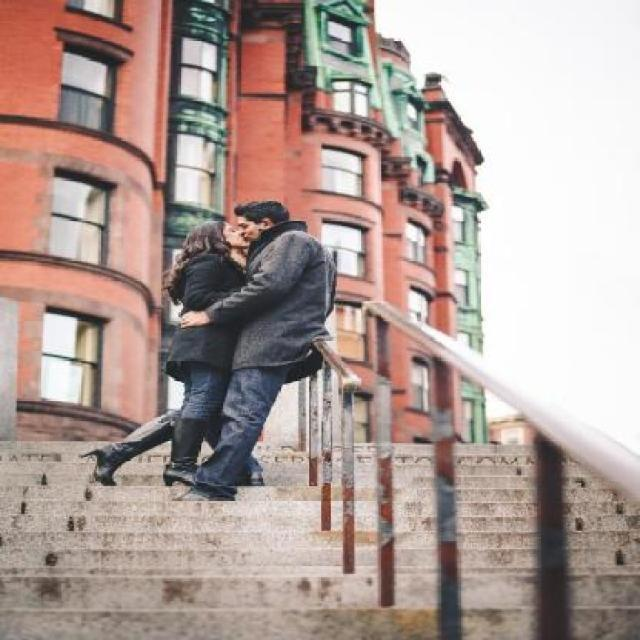stair: (0, 441, 640, 640)
